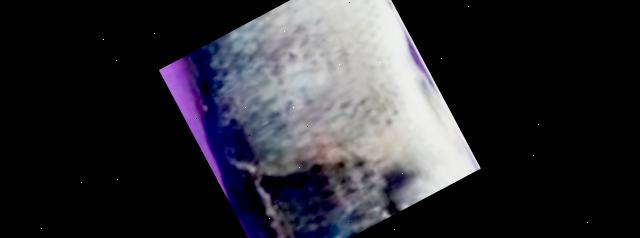Tilapia Lake Virus -TiLV-: (188, 0, 476, 238)
